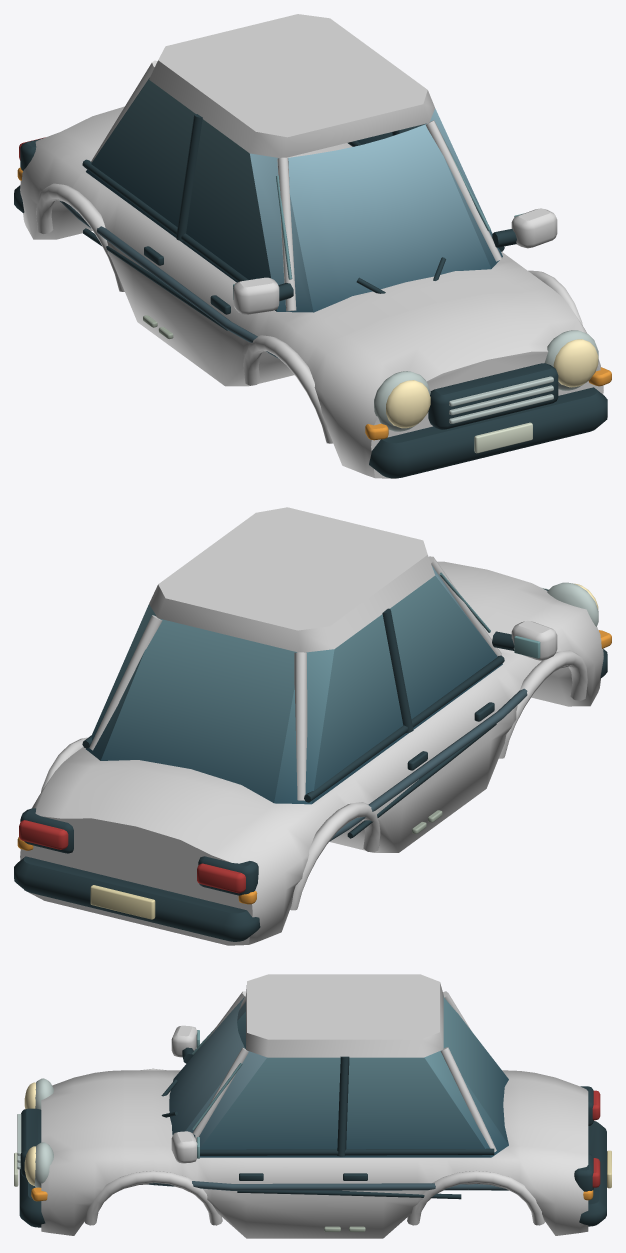
The model's file is sprint.glb.
3 renders of one model, top to bottom at view 1: azimuth 30°, elevation 25°; view 2: azimuth 150°, elevation 25°; view 3: azimuth 270°, elevation 25°, orthographic. The views are drawn at different scales.
Parts seen in each view (by area): view 1: Chassis, Headlamps; view 2: Chassis, BrakeLamps; view 3: Chassis, Headlamps, BrakeLamps.
Boxes of the visible parts, x1,y1,x2,y2 form: Chassis: (14,14,607,478); Headlamps: (386,339,598,428); Chassis: (14,507,607,945); BrakeLamps: (19,820,245,893); Chassis: (14,974,611,1238); Headlamps: (24,1082,35,1185); BrakeLamps: (592,1090,600,1187).
Size of the model in its own units: 1.62 by 1.17 by 3.39.
